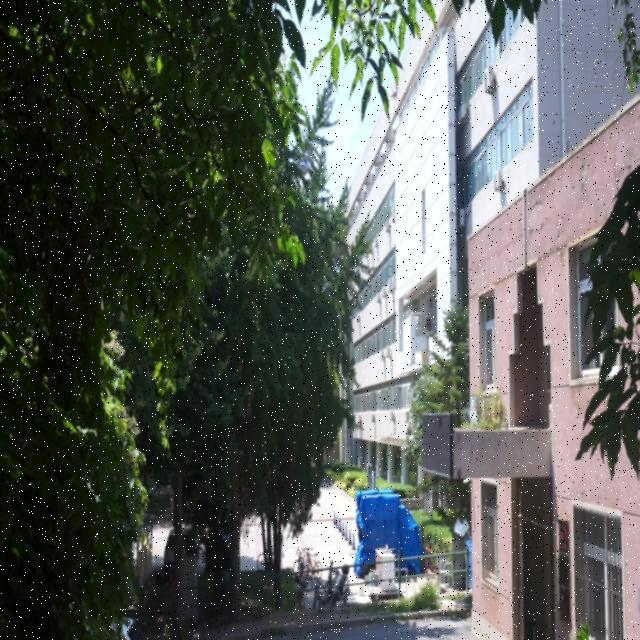UAV: (390, 90, 399, 100)
